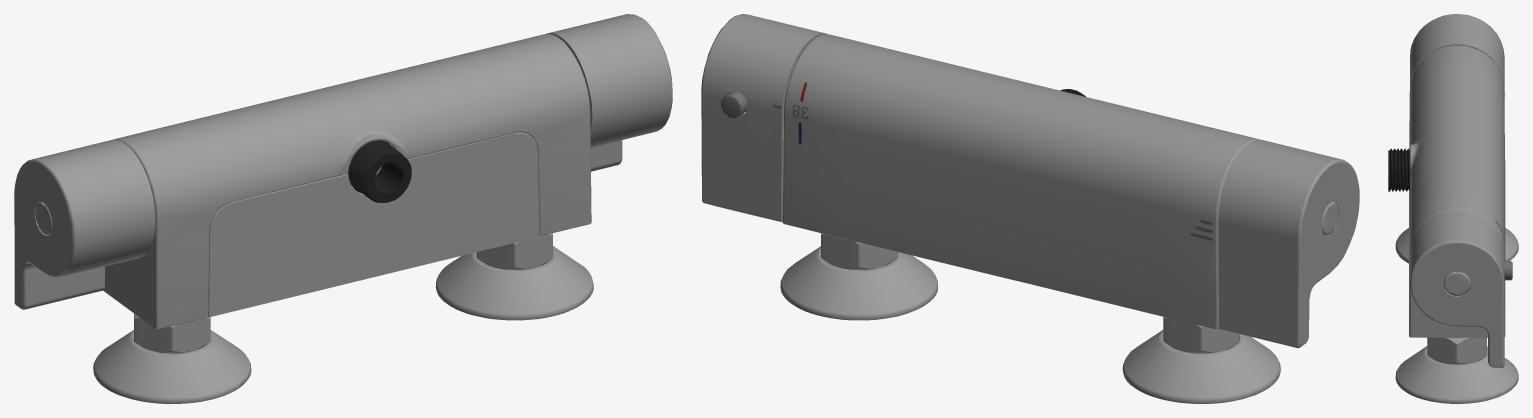
File: VALLAMOSSE Mitigeur thermostatique pour douche chromé 150 mm.glb
3 views of the same model, side by side, from view 1: azimuth 30°, elevation 25°; view 2: azimuth 150°, elevation 25°; view 3: azimuth 270°, elevation 25° (orthographic). The views are drawn at different scales.
Parts seen in each view (by area): view 1: 10349655-VALLAMOSSE001; view 2: 10349655-VALLAMOSSE001; view 3: 10349655-VALLAMOSSE001.
Part boxes in pixels (x1,y1,x2,y2): 10349655-VALLAMOSSE001: (14,14,672,403); 10349655-VALLAMOSSE001: (701,14,1359,403); 10349655-VALLAMOSSE001: (1388,14,1518,403).
Size of the model in its own units: 0.2634 by 0.1 by 0.0636.
Materials: 2 (2 with a texture image).
